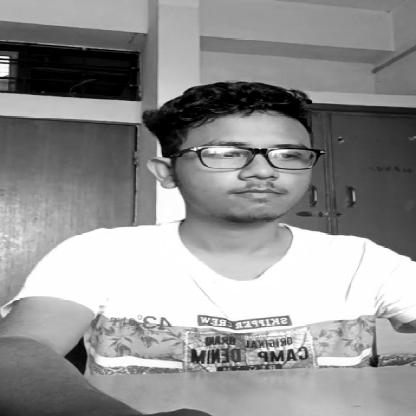Normal: (163, 94, 323, 221)
